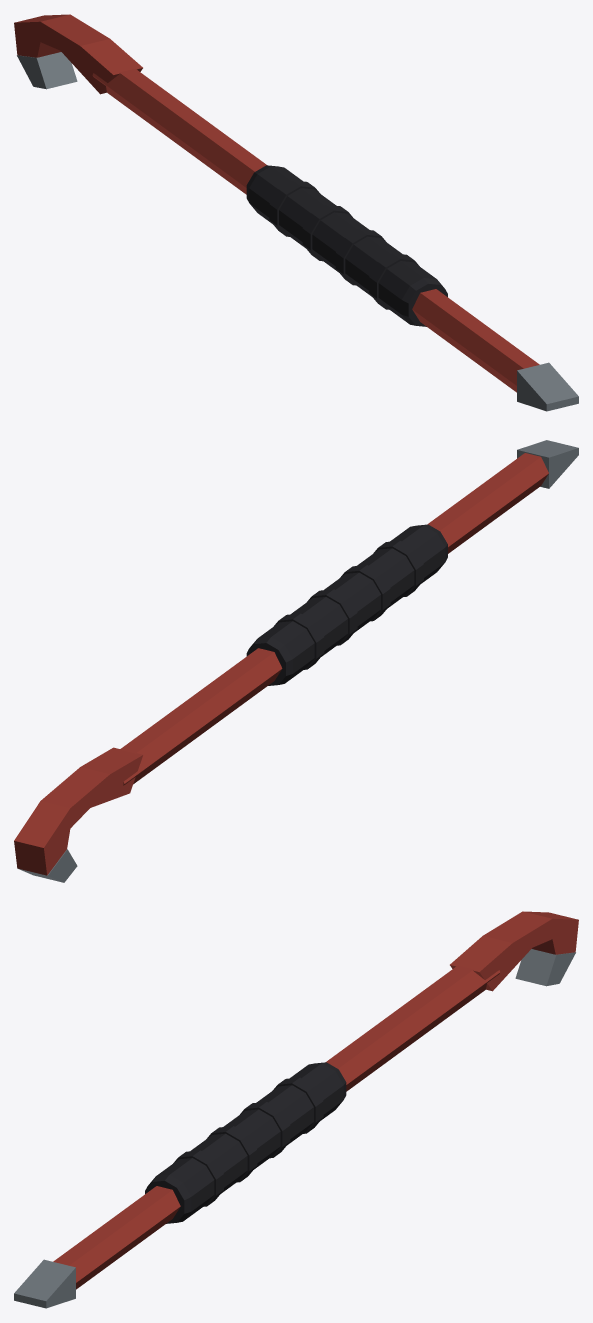
Rendered from crowbar.glb.
The picture shows the model from 3 angles, top to bottom: view 1: azimuth 30°, elevation 25°; view 2: azimuth 150°, elevation 25°; view 3: azimuth 330°, elevation 25°; orthographic projection.
Visible parts, largest first — view 1: crowbar; view 2: crowbar; view 3: crowbar.
Boxes of the visible parts, x1,y1,x2,y2 form: crowbar: (14, 14, 578, 411); crowbar: (14, 440, 578, 882); crowbar: (14, 911, 578, 1308).
Size of the model in its own units: 0.0409 by 0.0675 by 0.805.
Materials: 1 (1 with a texture image).
